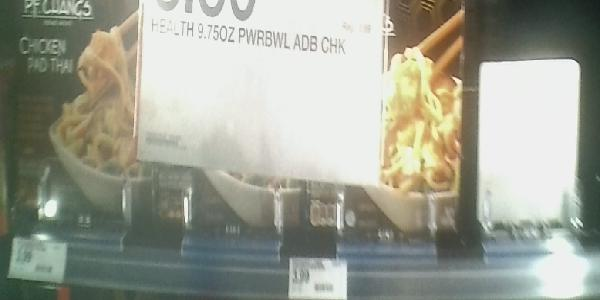pizza1: (6, 1, 189, 227), (306, 1, 468, 235), (191, 1, 307, 241)
